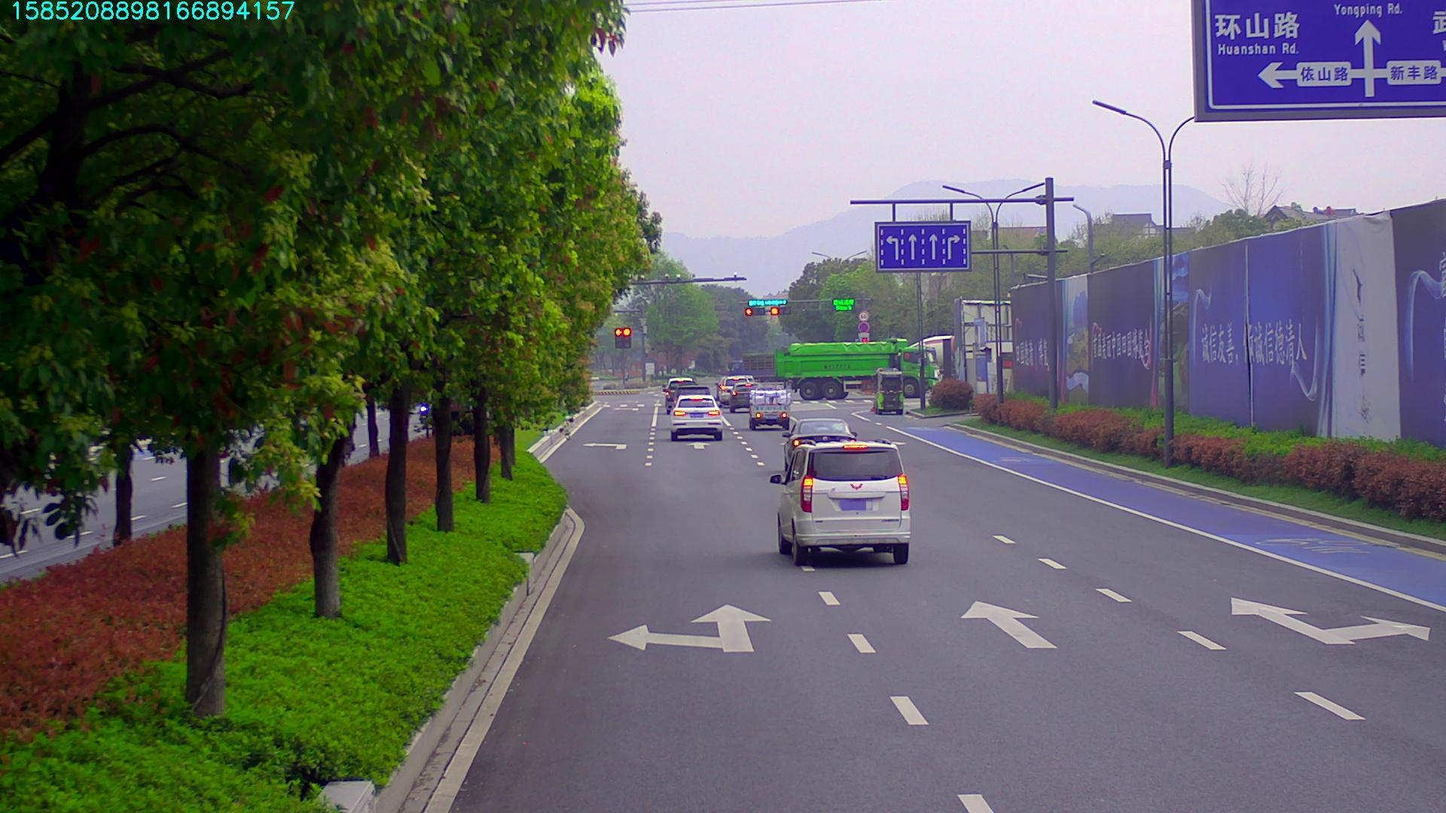red: (744, 306, 767, 318), (767, 309, 786, 315)
wait_on: (746, 297, 786, 303)
